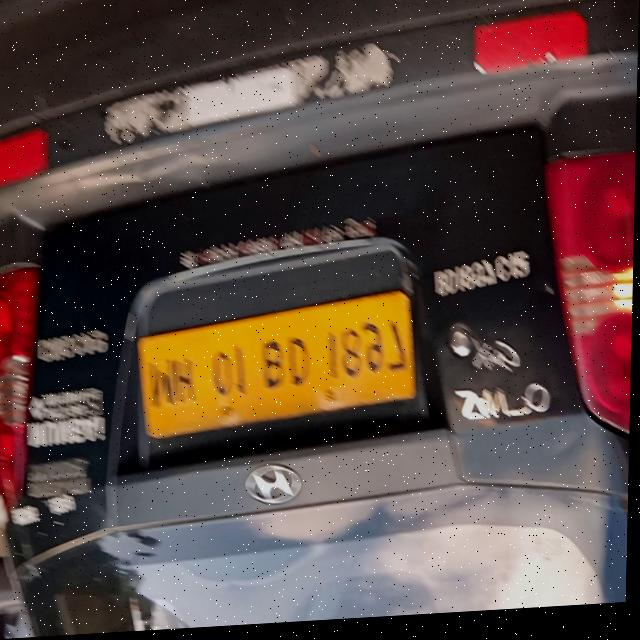plate: (140, 288, 418, 444)
